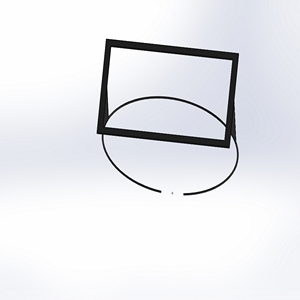circle: (92, 36, 241, 198)
